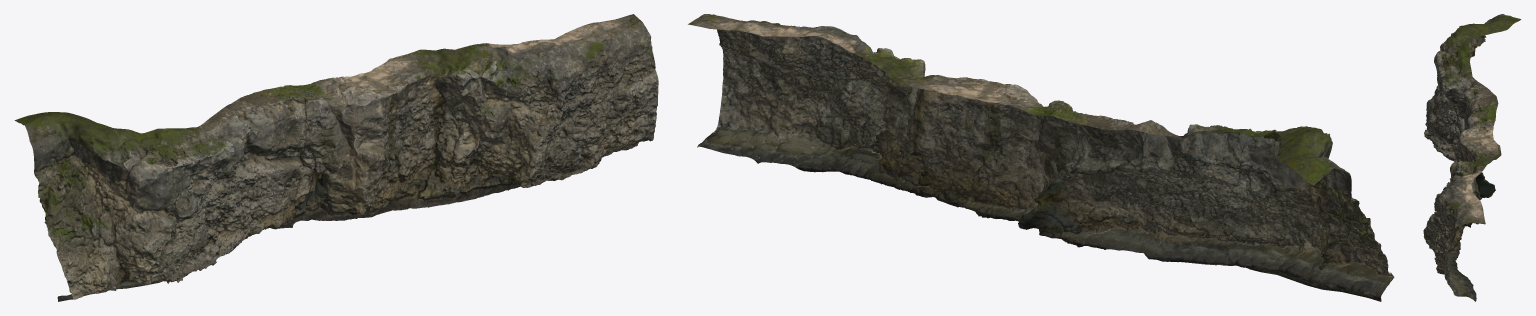
The model's file is coastal_cliff_02.glb.
3 renders of one model, left to right at view 1: azimuth 30°, elevation 25°; view 2: azimuth 150°, elevation 25°; view 3: azimuth 270°, elevation 25°, orthographic. The views are drawn at different scales.
Visible parts, largest first — view 1: coastal_cliff_02_LOD0; view 2: coastal_cliff_02_LOD0; view 3: coastal_cliff_02_LOD0.
Part boxes in pixels (<box>): coastal_cliff_02_LOD0: <box>14,14,658,301</box>; coastal_cliff_02_LOD0: <box>688,14,1394,301</box>; coastal_cliff_02_LOD0: <box>1423,14,1521,301</box>.
Size of the model in its own units: 40.93 by 10.05 by 8.65.
Materials: 1 (1 with a texture image).
